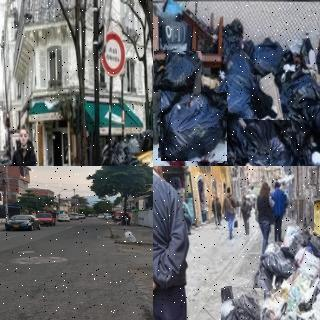Garbage: (160, 91, 228, 162), (236, 119, 291, 166), (279, 75, 320, 128), (154, 50, 202, 93), (211, 73, 254, 119), (219, 287, 262, 320), (250, 36, 287, 73), (259, 245, 296, 276), (252, 263, 275, 301), (124, 230, 137, 243)
